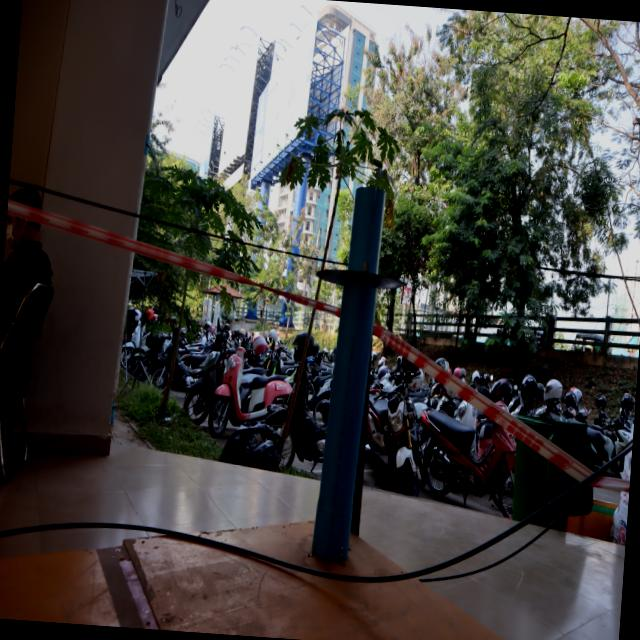pole: (304, 172, 414, 364)
